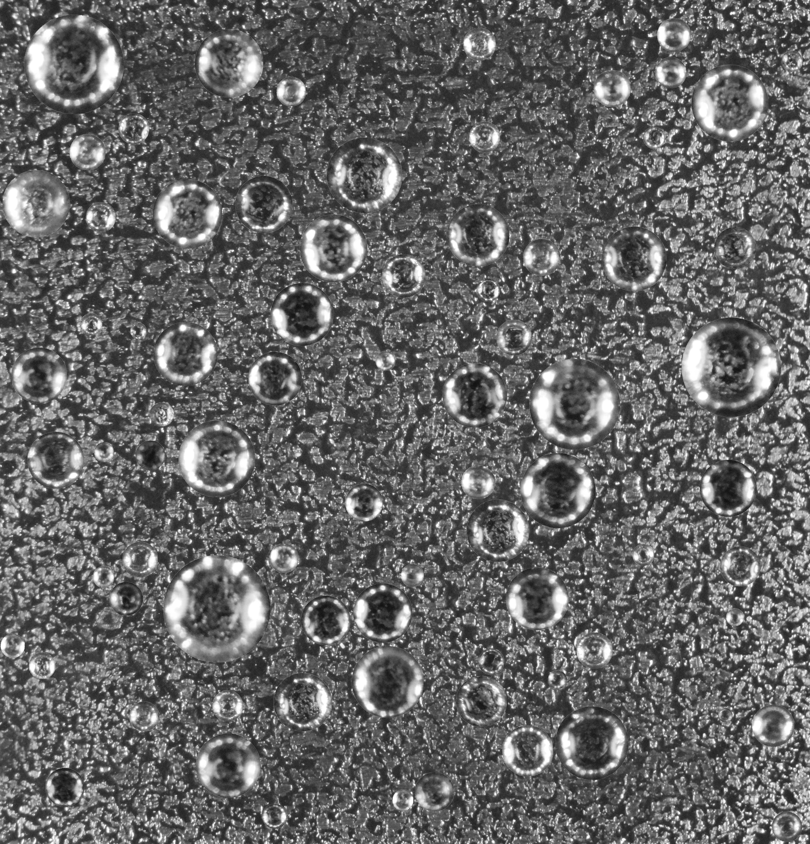Bubble: (163, 555, 270, 662), (681, 317, 781, 416), (24, 14, 123, 113), (529, 358, 620, 449), (691, 64, 768, 141), (178, 420, 255, 497), (326, 137, 402, 212), (520, 453, 595, 528), (555, 706, 628, 779), (351, 646, 423, 717), (152, 179, 222, 248), (194, 29, 263, 97), (299, 214, 367, 282), (2, 170, 69, 237), (602, 226, 666, 291), (442, 363, 506, 427), (196, 733, 260, 797), (153, 322, 217, 385), (506, 567, 568, 630), (466, 499, 529, 561), (270, 283, 333, 345), (447, 204, 509, 266), (353, 583, 412, 642), (273, 673, 331, 731), (27, 431, 84, 488), (235, 175, 292, 232), (699, 459, 756, 516), (11, 347, 66, 403), (248, 351, 301, 405), (502, 725, 553, 776), (456, 676, 506, 726), (301, 595, 350, 645), (382, 254, 425, 297), (752, 704, 794, 746), (714, 227, 756, 268), (720, 546, 760, 586), (414, 772, 454, 811), (45, 768, 84, 806), (345, 483, 382, 521), (523, 238, 560, 275), (593, 70, 630, 106), (576, 632, 612, 668), (69, 134, 105, 169), (496, 319, 531, 355), (122, 541, 157, 577), (461, 465, 495, 499), (657, 18, 690, 51), (109, 582, 142, 615), (463, 27, 495, 60), (655, 57, 686, 88), (212, 690, 243, 721), (469, 121, 500, 152), (118, 113, 149, 143), (135, 440, 165, 470), (772, 811, 802, 841), (85, 202, 115, 232), (129, 701, 159, 731), (276, 76, 305, 106), (269, 543, 298, 572), (28, 652, 55, 679), (478, 648, 504, 674), (262, 804, 287, 828), (0, 633, 24, 657), (149, 402, 173, 426), (476, 278, 499, 301), (401, 564, 423, 586), (80, 313, 102, 335), (643, 126, 665, 148), (632, 544, 654, 565), (92, 566, 114, 587), (392, 789, 413, 810), (781, 50, 802, 71), (375, 351, 395, 370), (94, 442, 113, 462), (548, 670, 566, 689), (726, 608, 743, 626), (130, 322, 146, 338), (718, 708, 732, 722), (716, 172, 727, 183), (394, 59, 405, 70)
